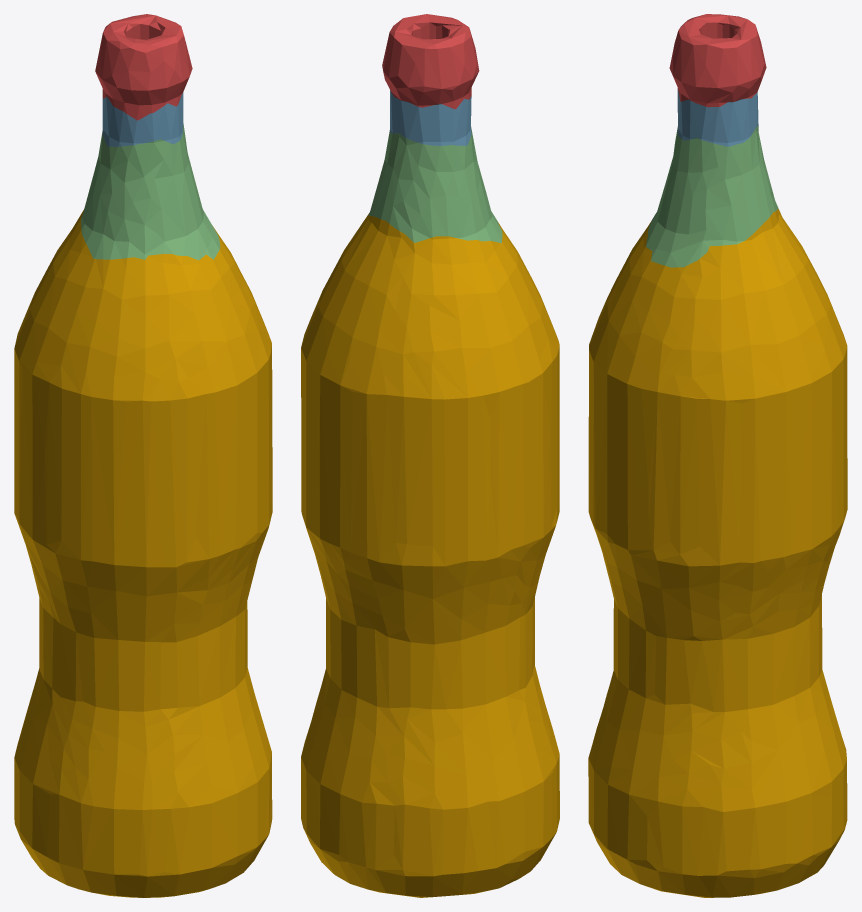
Rendered from fractured_21_4pcs.glb.
The picture shows the model from 3 angles, left to right: view 1: azimuth 30°, elevation 25°; view 2: azimuth 150°, elevation 25°; view 3: azimuth 270°, elevation 25°; orthographic projection.
Parts seen in each view (by area): view 1: piece_0.obj, piece_3.obj, piece_1.obj, piece_2.obj; view 2: piece_0.obj, piece_3.obj, piece_1.obj, piece_2.obj; view 3: piece_0.obj, piece_3.obj, piece_1.obj, piece_2.obj.
Part boxes in pixels (x1,y1,x2,y2): piece_0.obj: (14,210,272,897); piece_3.obj: (81,124,220,260); piece_1.obj: (95,14,192,120); piece_2.obj: (102,92,183,146); piece_0.obj: (301,214,559,897); piece_3.obj: (368,127,502,243); piece_1.obj: (382,14,479,109); piece_2.obj: (389,90,471,145); piece_0.obj: (588,209,847,897); piece_3.obj: (646,126,778,267); piece_1.obj: (669,14,766,107); piece_2.obj: (677,90,758,146).
Bounding box in the file's own units: 0.2848 × 1 × 0.2847.
